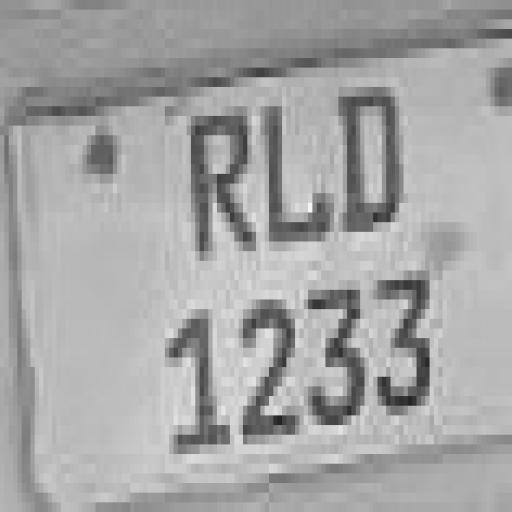1: (165, 306, 223, 465)
2: (234, 286, 297, 448)
3: (300, 285, 368, 431), (368, 266, 437, 407)
D: (338, 84, 406, 240)
L: (262, 98, 330, 242)
R: (191, 116, 252, 253)
